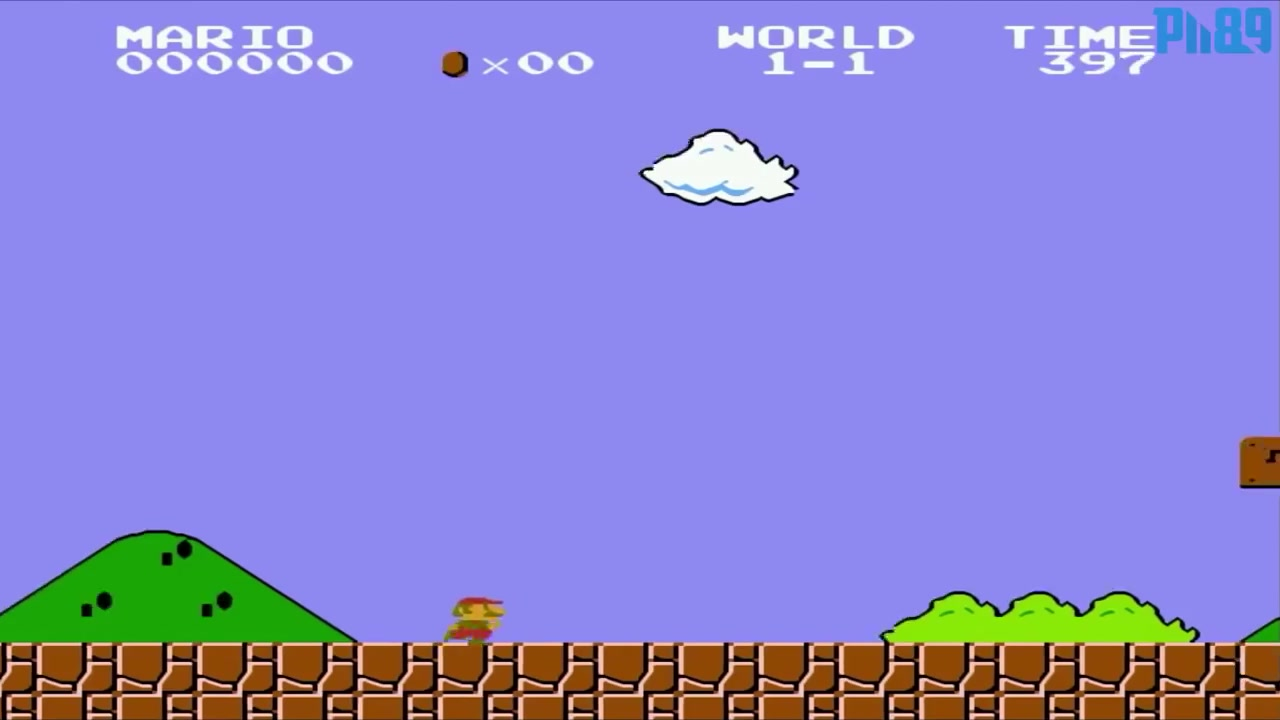mario: (428, 585, 508, 646)
